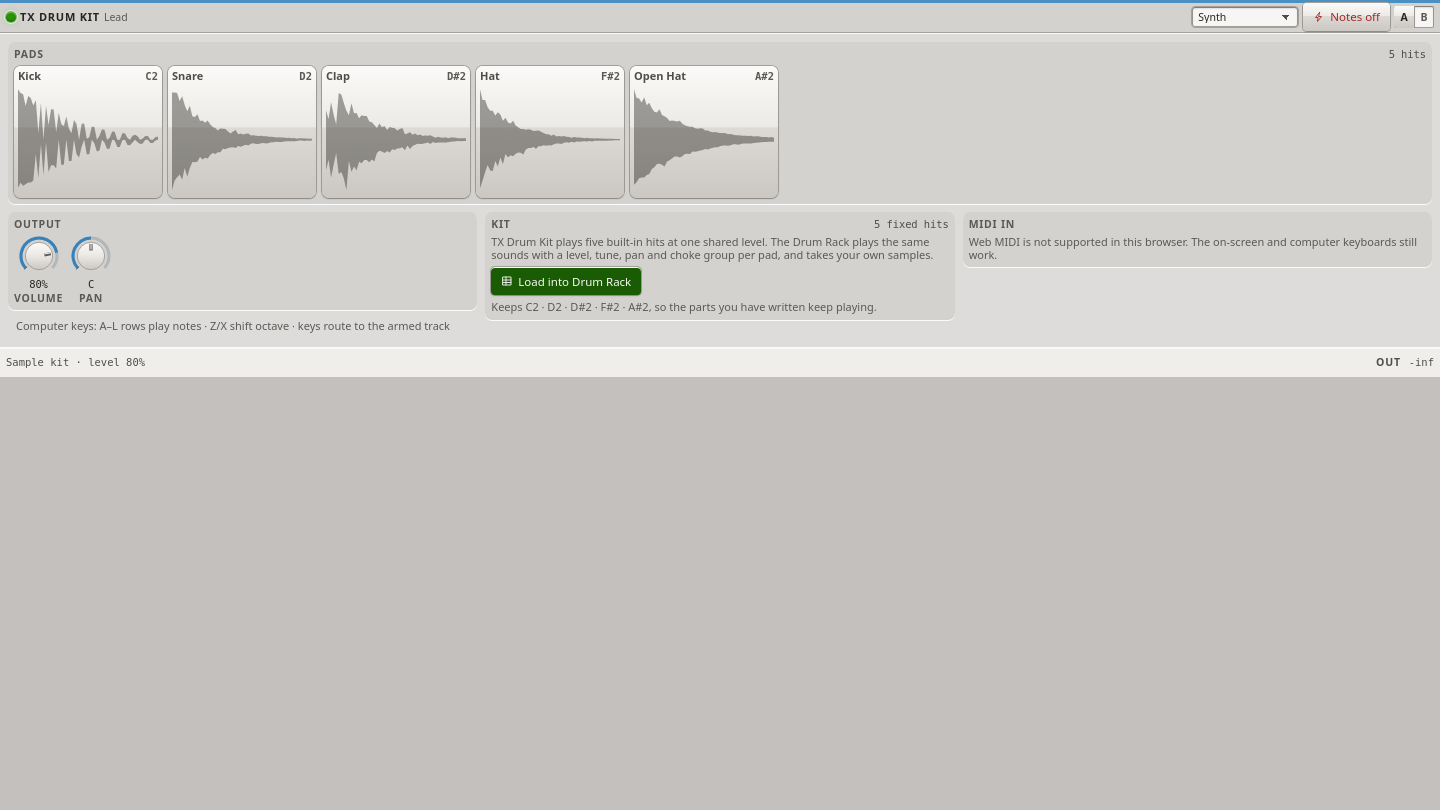
Test: the classic drum kit › loads the kit into a drum rack on the keys the part already uses
What coordinates should you click on to do the following:
click the button with test id "kit-to-rack"
I would click on:
 (566, 281)
Its box is [491,267,641,295].
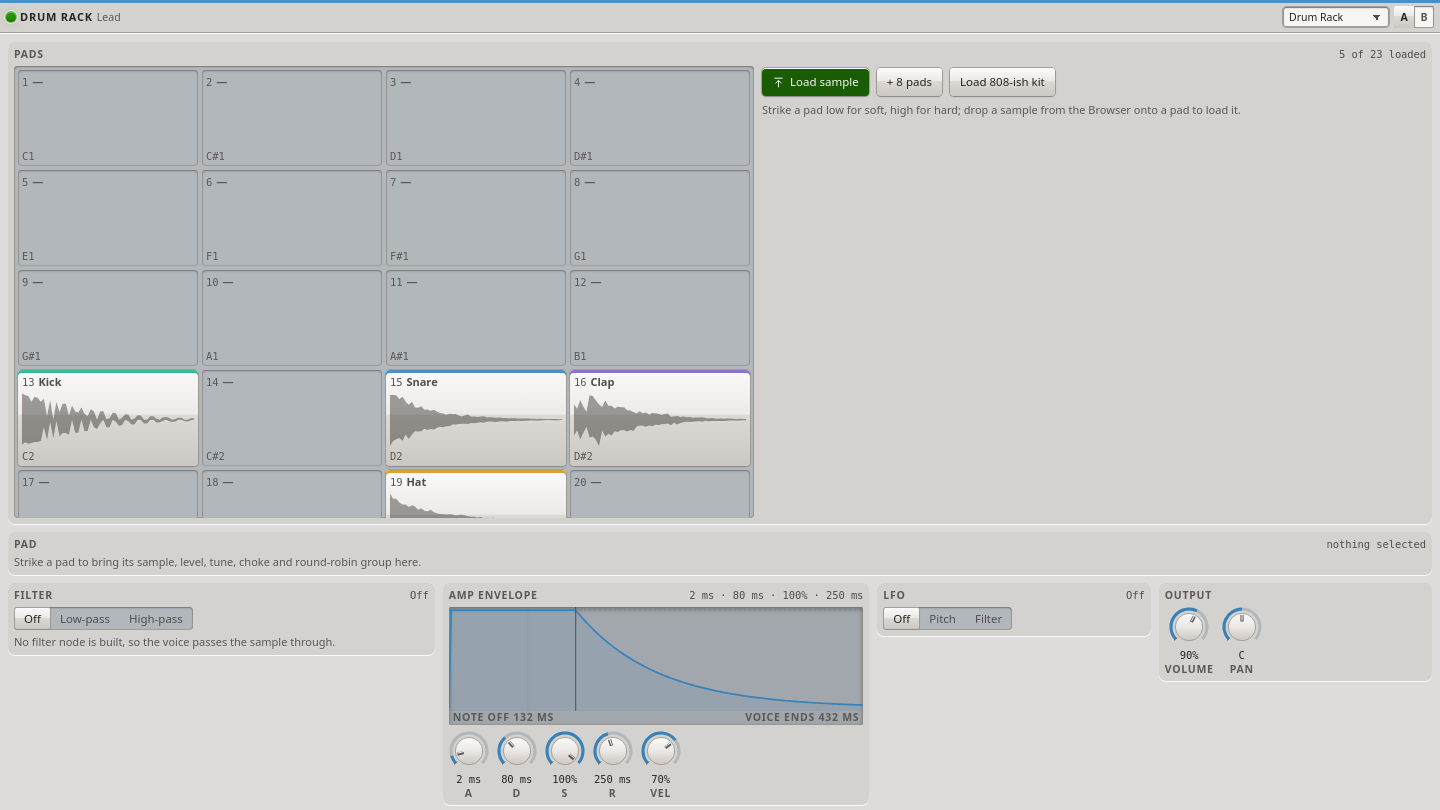
Expected: the element with test id "synth-panel" is gone
